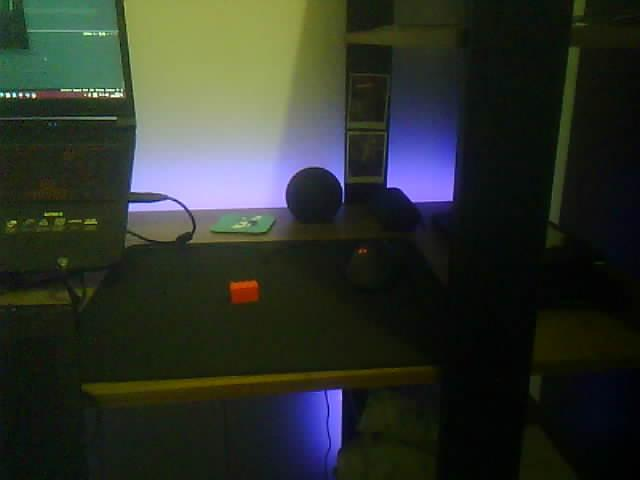lego: (228, 279, 260, 305)
